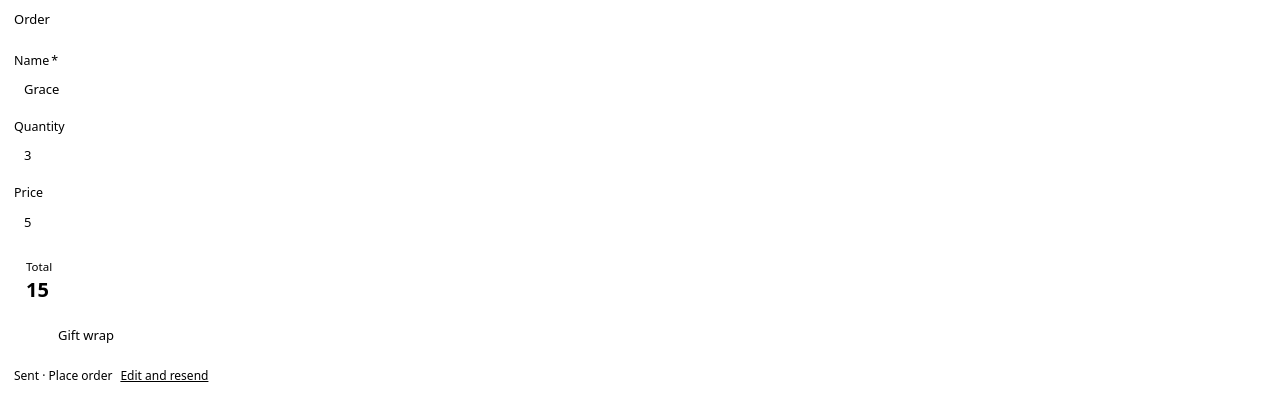
Scenario: interaction › restores a submitted card read-only with the submitted values, and Edit unlocks it
This screenshot has width=1280, height=408.
Expected: the field labelled "Name*" holds "Grace", [14,74,1266,106]
Expected: the field labelled "Name*" is disabled, [14,74,1266,106]
Click the button "Edit and resend". click: (164, 376)
box: [120,367,208,385]
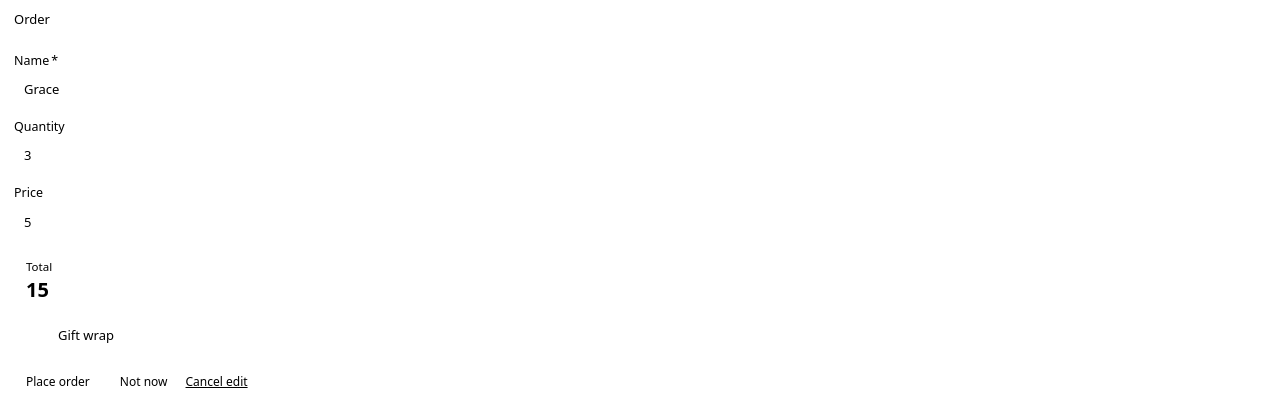
Cancelling the edit puts back exactly what was sent.
Replace the text in the field labelled "Name*" with "Changed". click: (640, 90)
box: [14,74,1266,106]
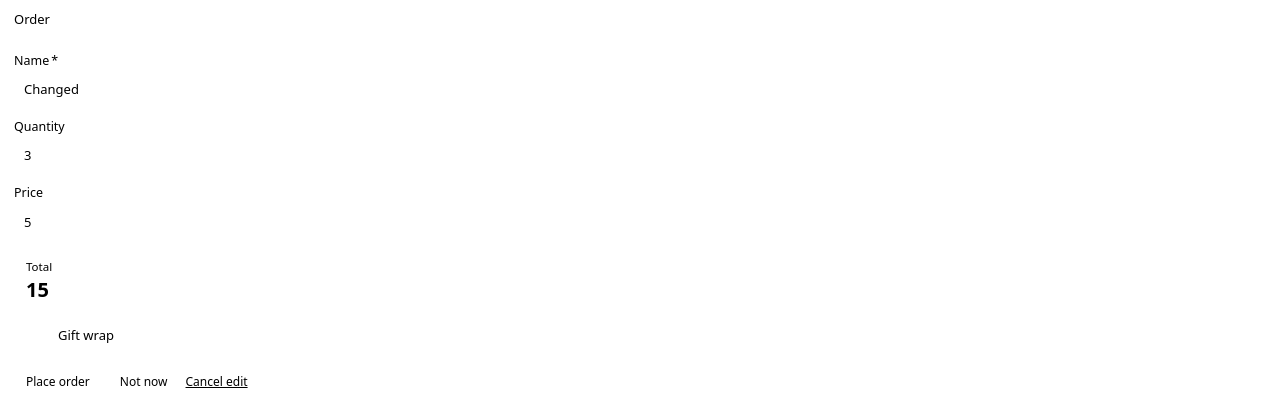
Click the button "Cancel edit". click: (217, 382)
box: [186,373,248,391]
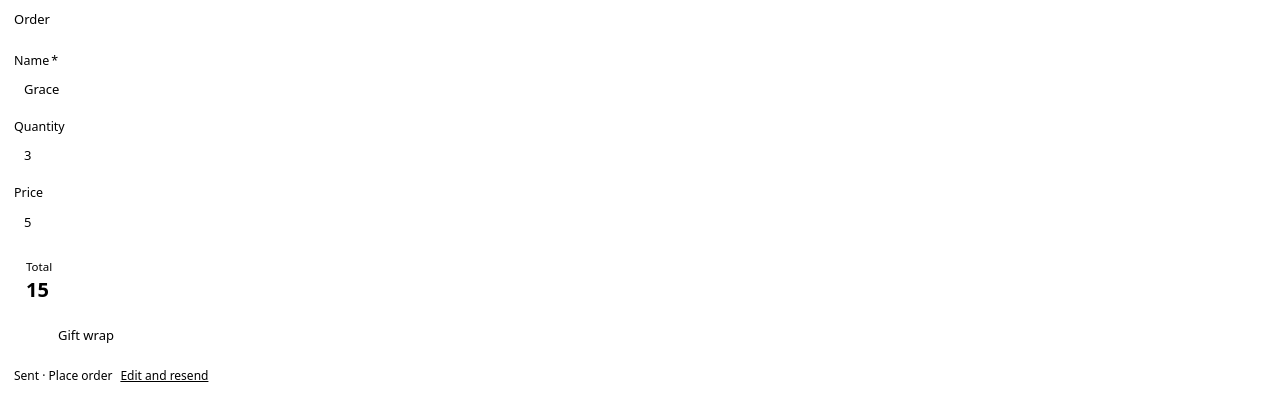
Expected: the field labelled "Name*" is disabled, [14,74,1266,106]
Expected: the field labelled "Name*" holds "Grace", [14,74,1266,106]
